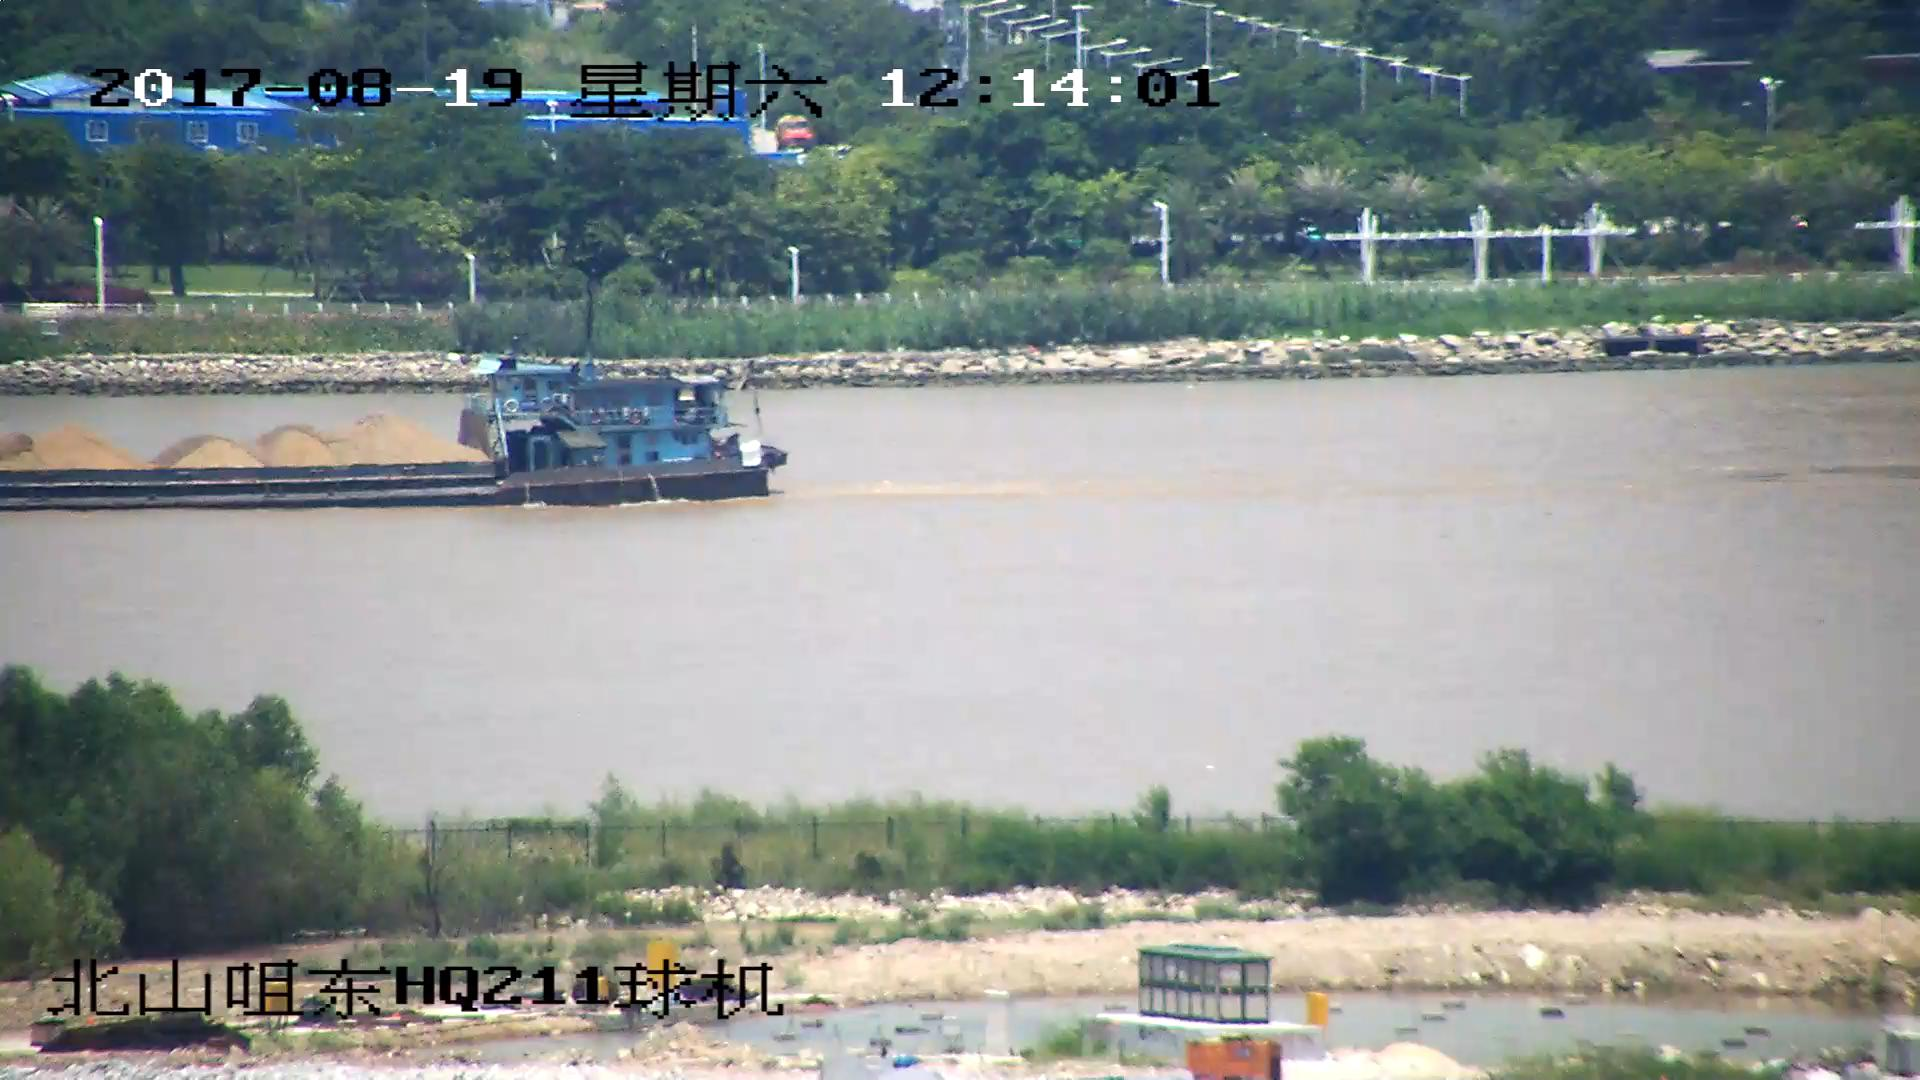ore carrier: (1, 327, 791, 513)
